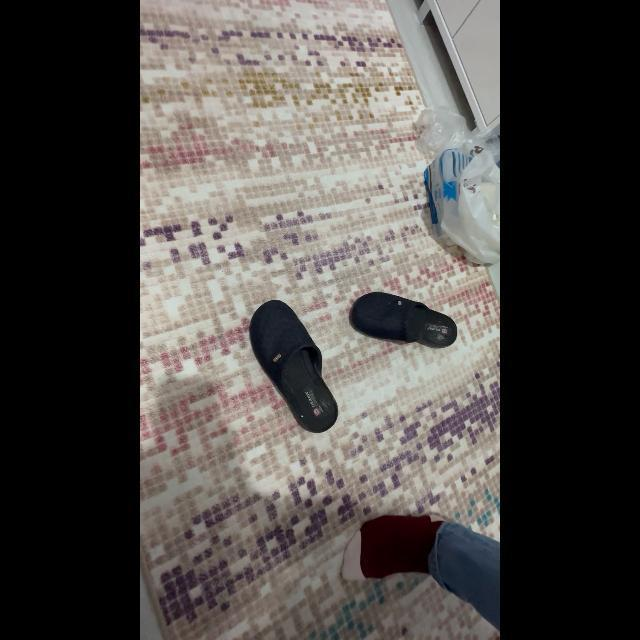slipper: (241, 296, 345, 438), (342, 280, 460, 356)
